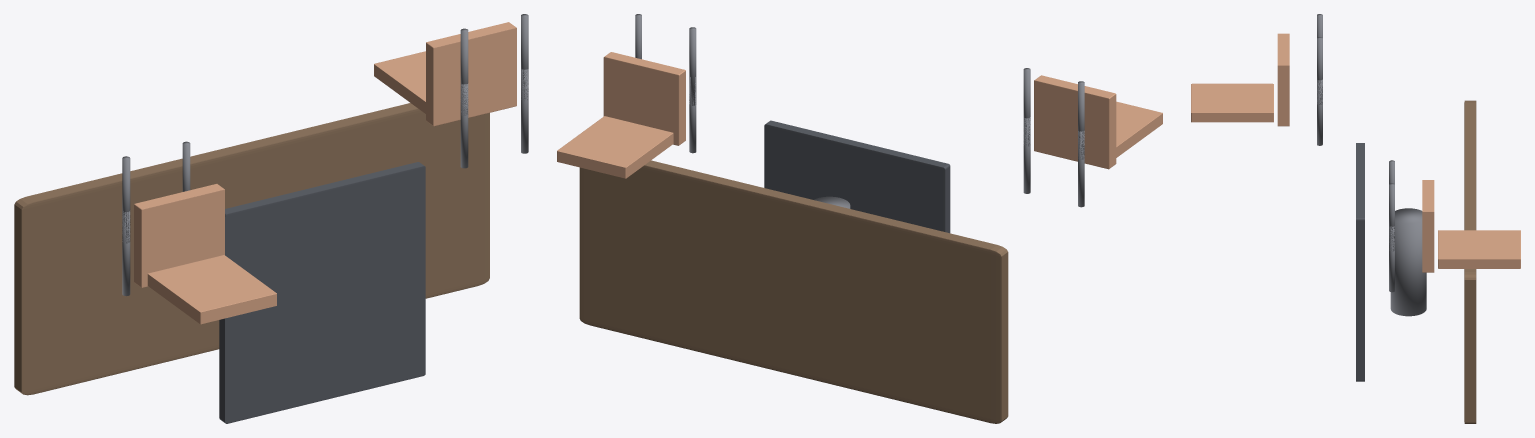
The model's file is meeting_table.glb.
3 renders of one model, left to right at view 1: azimuth 30°, elevation 25°; view 2: azimuth 150°, elevation 25°; view 3: azimuth 270°, elevation 25°, orthographic. The views are drawn at different scales.
Parts seen in each view (by area): view 1: top, foot, seat.001, seat, back, back.001, leg_-0.18_back.001, leg_0.18_back, leg_0.18_front, leg_0.18_back.001, leg_-0.18_front.001, leg_0.18_front.001; view 2: top, foot, seat, seat.001, back.001, back, leg_-0.18_back, leg_-0.18_front.001; view 3: top, back, pedestal, back.001, foot, seat, seat.001, leg_-0.18_back, leg_0.18_back.001, leg_0.18_front.001, leg_-0.18_front.
Part boxes in pixels (box(x1,y1,x2,y2)): top: box(14, 103, 489, 395); foot: box(219, 162, 425, 423); seat.001: box(426, 22, 516, 126); seat: box(134, 184, 224, 287); back: box(147, 255, 276, 324); back.001: box(374, 51, 425, 113); leg_-0.18_back.001: box(460, 83, 468, 168); leg_0.18_back: box(122, 211, 130, 296); leg_0.18_front: box(122, 156, 130, 243); leg_0.18_back.001: box(521, 69, 528, 153); leg_-0.18_front.001: box(460, 28, 468, 115); leg_0.18_front.001: box(521, 14, 528, 100); top: box(579, 160, 1008, 423); foot: box(764, 120, 950, 233); seat: box(1034, 75, 1116, 169); seat.001: box(603, 52, 685, 145); back.001: box(557, 116, 673, 178); back: box(1116, 101, 1162, 157); leg_-0.18_back: box(1023, 117, 1030, 193); leg_-0.18_front.001: box(689, 27, 696, 105); top: box(1464, 100, 1476, 423); back: box(1191, 83, 1273, 122); pedestal: box(1390, 208, 1426, 316); back.001: box(1438, 230, 1520, 268); foot: box(1356, 143, 1364, 381); seat: box(1277, 33, 1289, 126); seat.001: box(1422, 180, 1434, 272); leg_-0.18_back: box(1317, 79, 1322, 145); leg_0.18_back.001: box(1389, 226, 1394, 292); leg_0.18_front.001: box(1389, 183, 1394, 251); leg_-0.18_front: box(1317, 37, 1322, 104).
Bounding box in the file's own units: 2.8 × 1.79 × 2.19.
